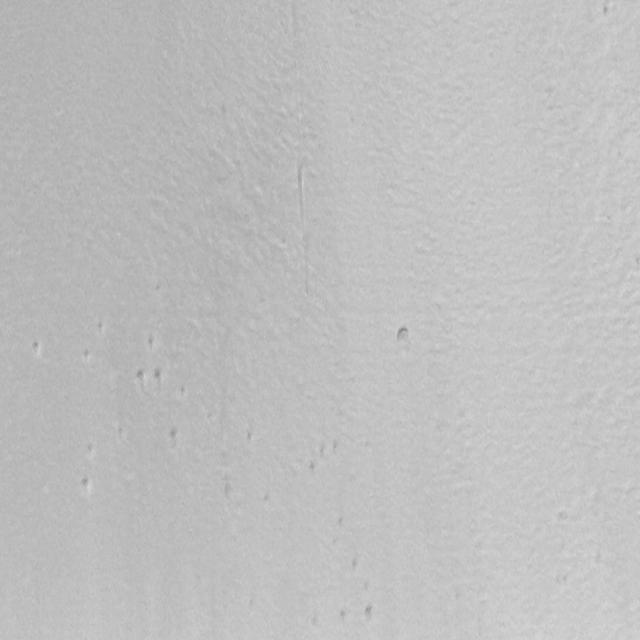pin holes: (392, 322, 413, 350), (335, 605, 353, 627), (134, 367, 150, 391), (600, 1, 620, 20), (361, 604, 379, 625), (80, 474, 96, 496), (166, 426, 182, 446), (152, 367, 167, 388), (30, 338, 44, 358), (306, 459, 320, 476), (144, 334, 157, 352), (85, 441, 98, 459), (82, 345, 95, 362), (95, 321, 108, 338), (349, 556, 361, 574), (225, 481, 236, 500), (558, 509, 568, 522), (180, 386, 188, 398), (333, 440, 339, 455), (247, 432, 253, 446), (264, 492, 270, 506), (154, 284, 161, 293), (338, 518, 342, 526)
